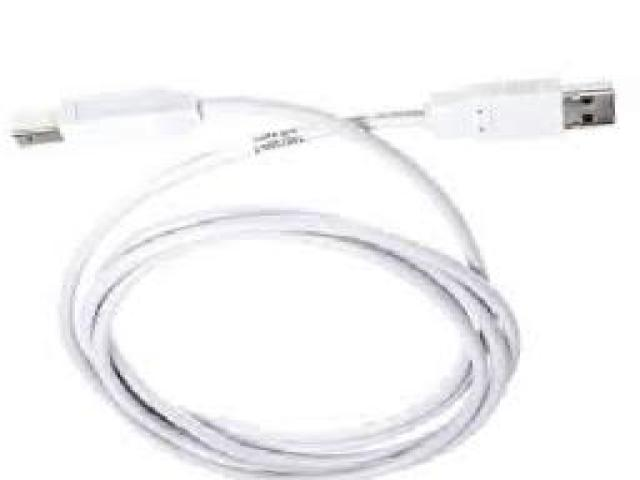wire: (9, 75, 629, 480)
